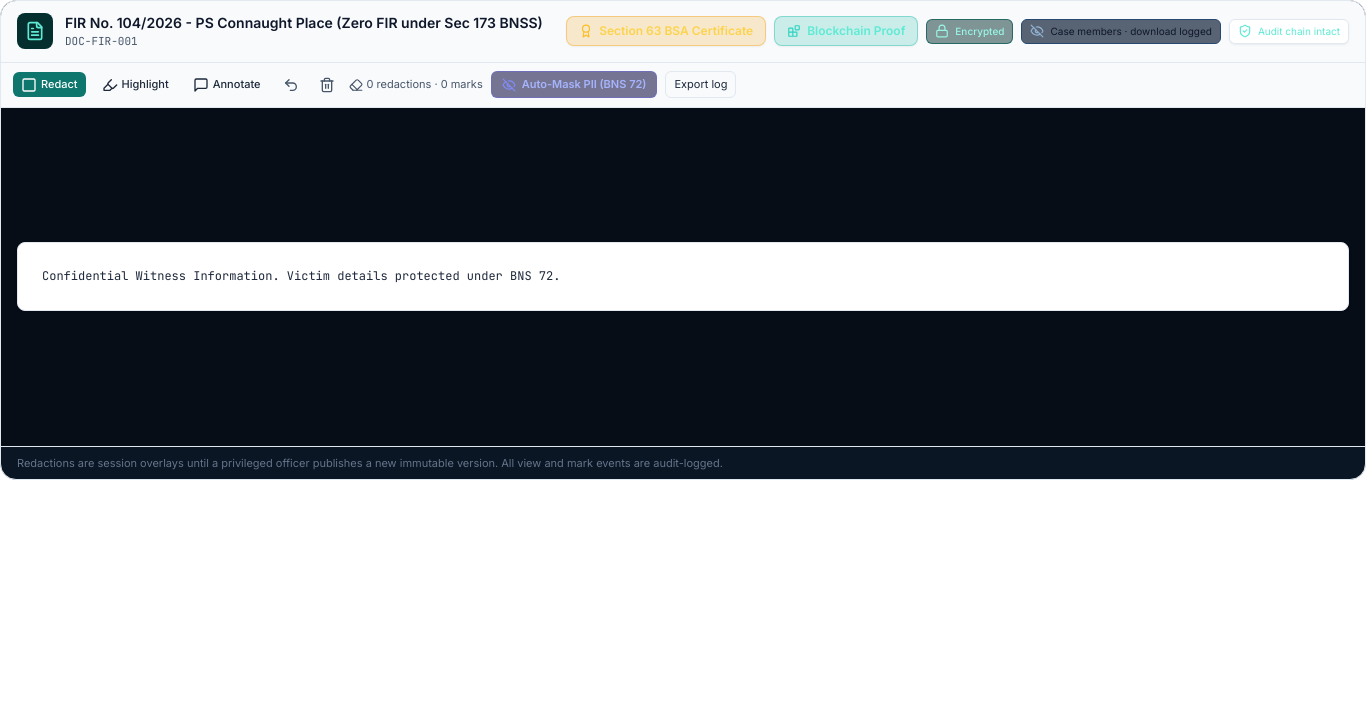
Scenario: National Digital Evidence Management System End-to-End Component Tests › renders SecureDocumentViewer with Auto-Mask PII (BNS 72) and opens Section 63 BSA Certificate
Expected: the text "Auto-Mask PII (BNS 72)" is shown, top-left (522, 76), bottom-right (646, 93)
Note: Click Auto-Mask PII
Click the button "Auto-Mask PII (BNS 72)" at (574,85), box top-left (491, 71), bottom-right (658, 98)
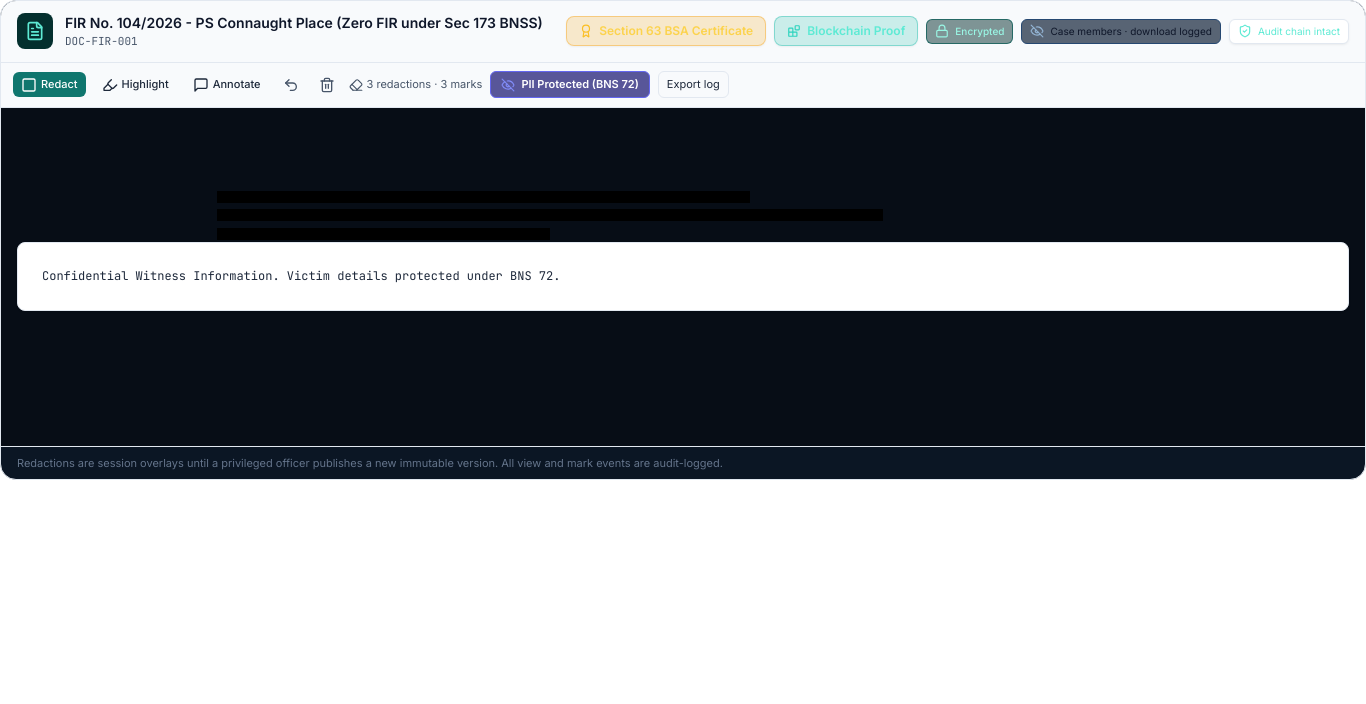
Expected: the text "Section 63 BSA Certificate" is shown, top-left (599, 23), bottom-right (753, 39)
Expected: the text "PII Protected (BNS 72)" is shown, top-left (521, 76), bottom-right (639, 93)
Click the button "Section 63 BSA Certificate" at (666,31), box top-left (566, 16), bottom-right (766, 46)
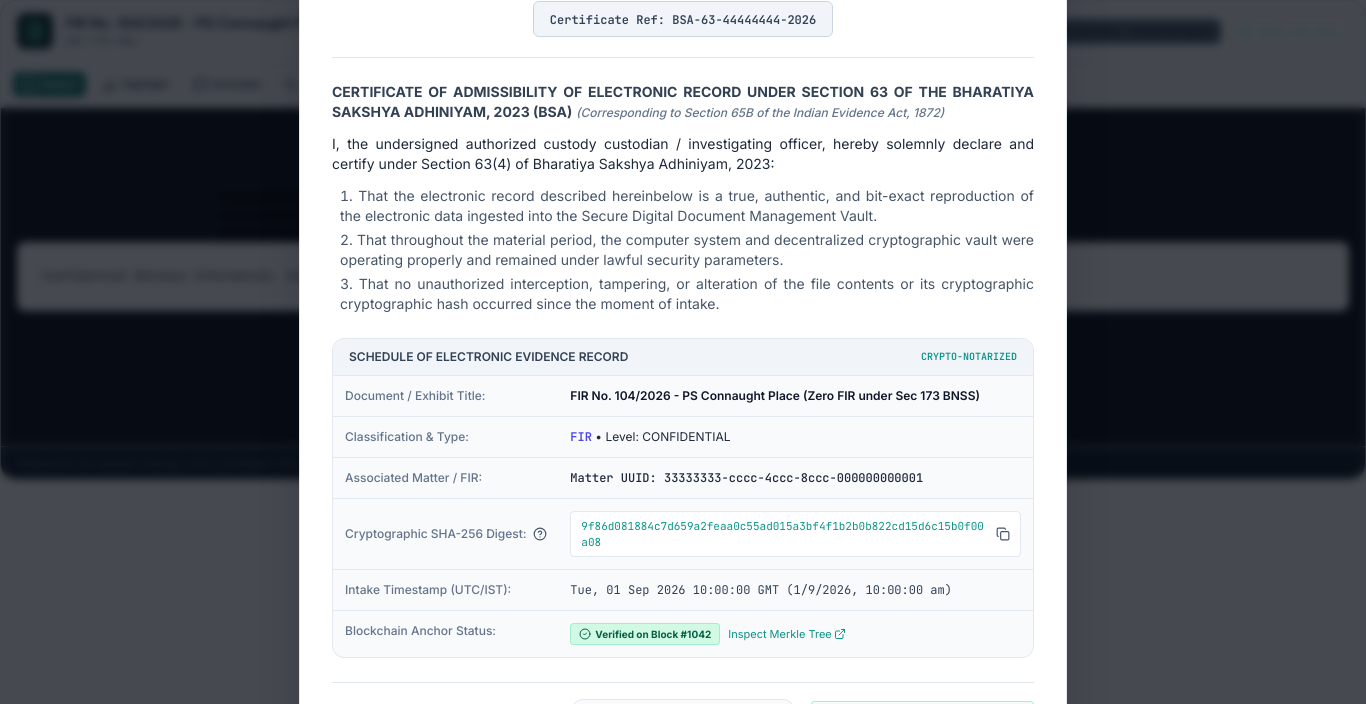
Expected: the text "BHARATIYA SAKSHYA ADHINIYAM, 2023" is shown, top-left (332, 83), bottom-right (1034, 120)
